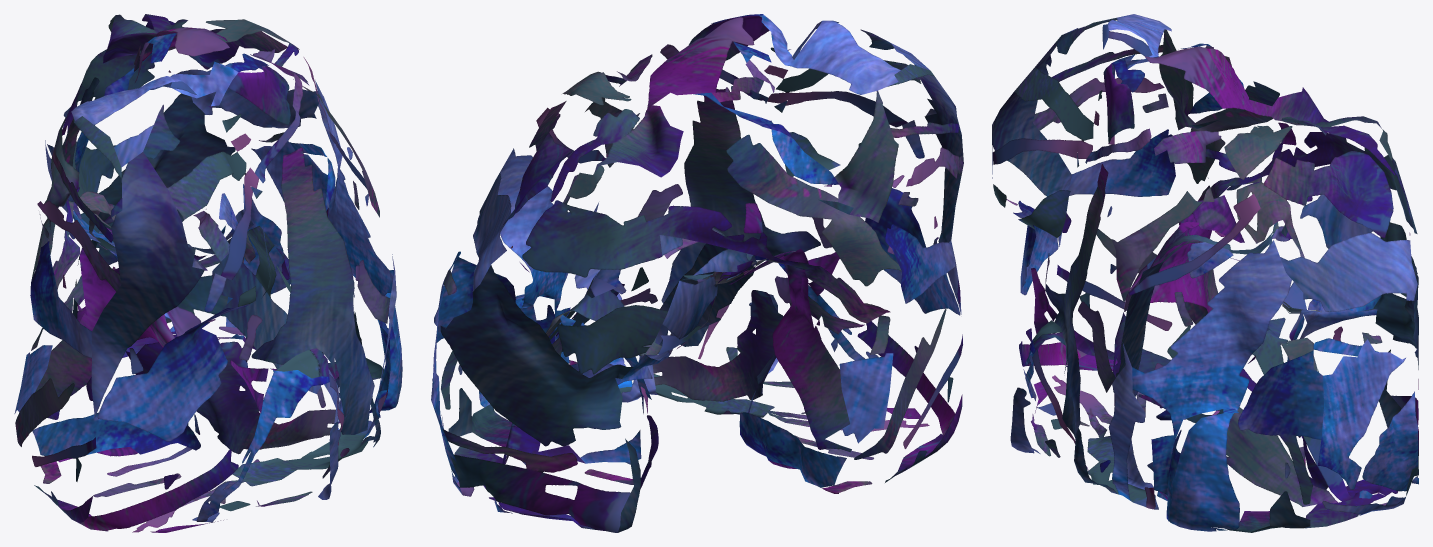
File: kylienovrockcave.fbx
3 renders of one model, left to right at view 1: azimuth 30°, elevation 25°; view 2: azimuth 150°, elevation 25°; view 3: azimuth 270°, elevation 25°, orthographic. The views are drawn at different scales.
Parts seen in each view (by area): view 1: MeshLayer; view 2: MeshLayer; view 3: MeshLayer.
Boxes of the visible parts, x1,y1,x2,y2 form: MeshLayer: [14, 14, 402, 532]; MeshLayer: [431, 14, 963, 532]; MeshLayer: [992, 14, 1418, 532].
Bounding box in the file's own units: 0.9917 × 1 × 0.9968.
Materials: 1 (1 with a texture image).
